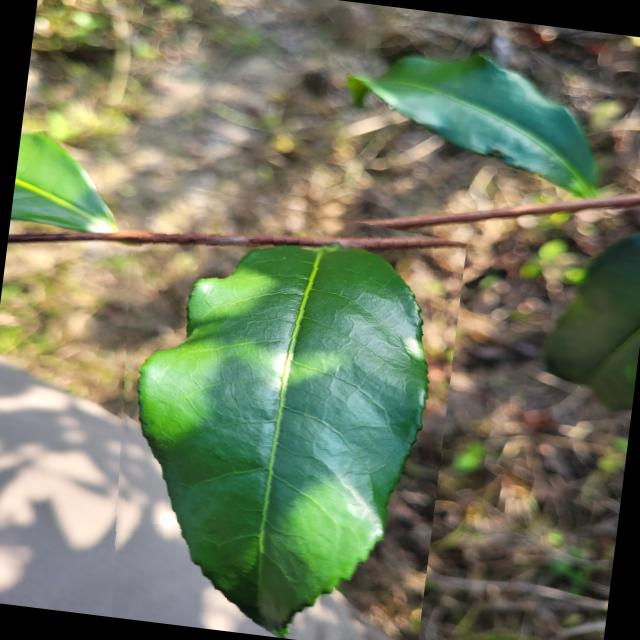Category D(7+ days, Not for Tea): (81, 177, 469, 640)
